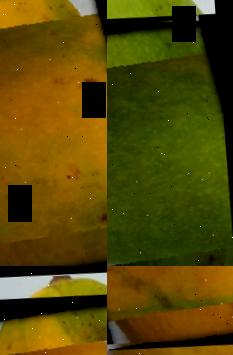PartiallyRipe: (0, 0, 107, 266)
Ripe: (107, 266, 233, 348), (0, 292, 107, 355)
Unripe: (107, 14, 233, 266)
